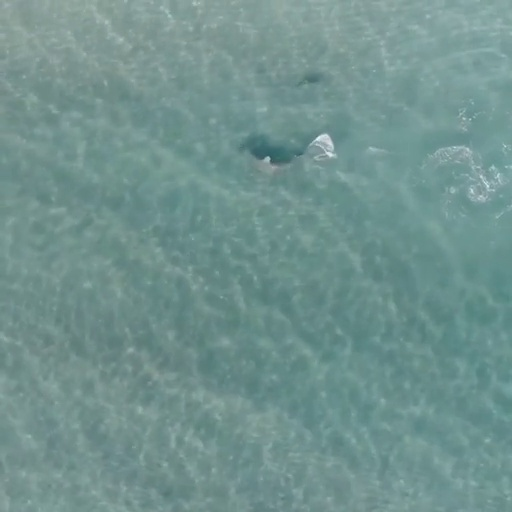shark: (233, 140, 315, 175)
